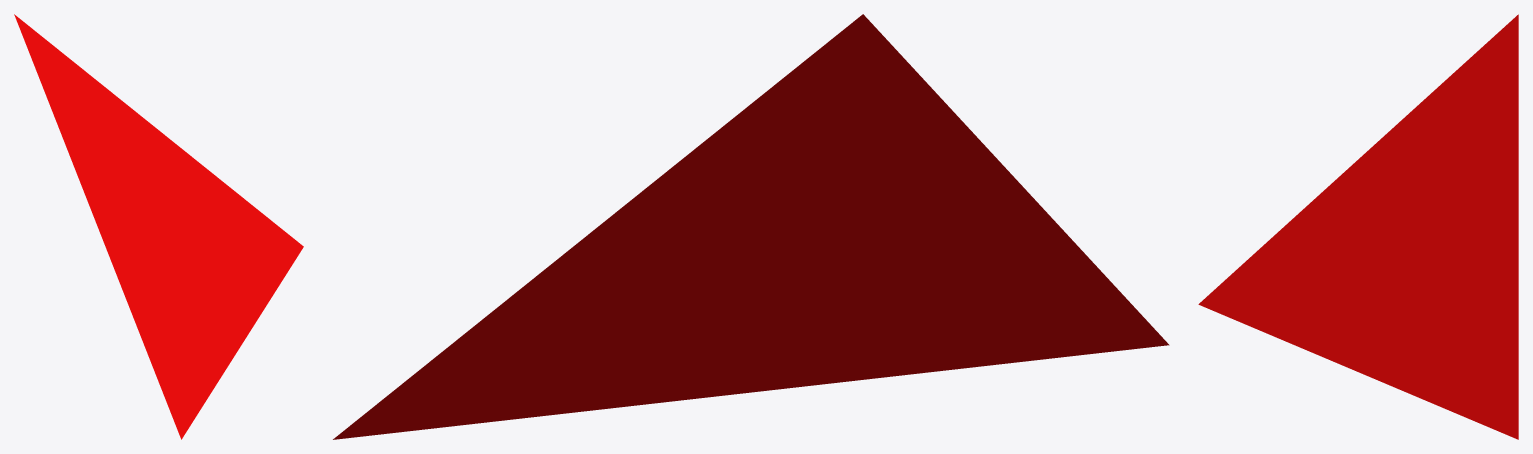
Rendered from dae.dae.
3 views of the same model, side by side, from view 1: azimuth 30°, elevation 25°; view 2: azimuth 150°, elevation 25°; view 3: azimuth 270°, elevation 25° (orthographic). The views are drawn at different scales.
Parts seen in each view (by area): view 1: node; view 2: node; view 3: node.
Part boxes in pixels (box(x1,y1,x2,y2)): node: box(14, 14, 303, 439); node: box(333, 14, 1169, 439); node: box(1198, 14, 1518, 439).
Size of the model in its own units: 1 by 1 by 1.
